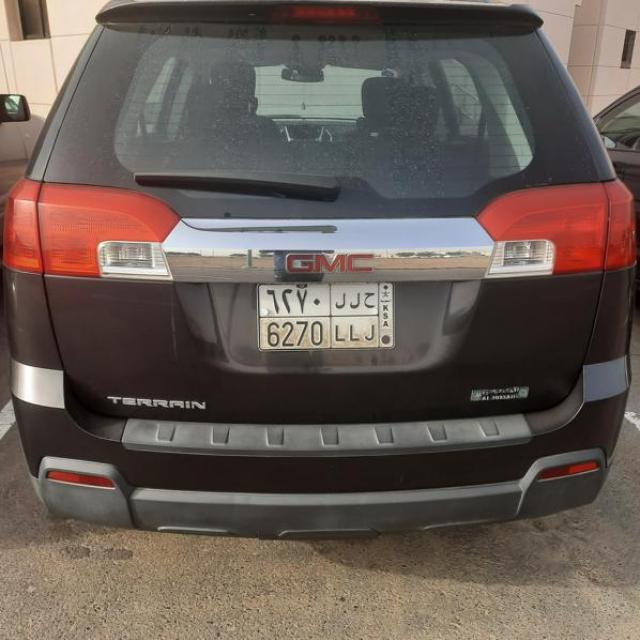license_plate: (256, 280, 397, 353)
